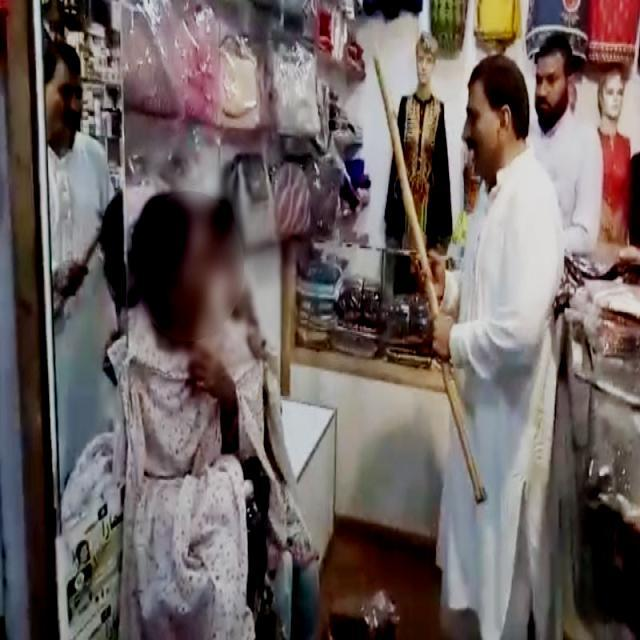Normal: (347, 27, 612, 567)
